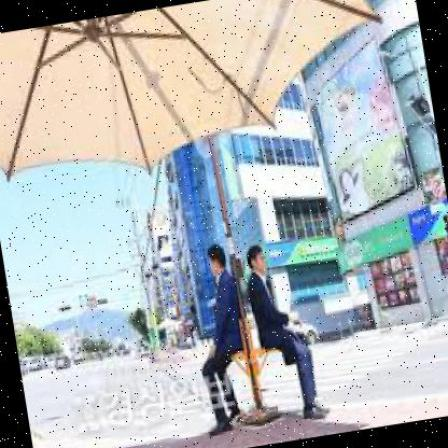silver: (241, 236, 331, 425), (179, 240, 258, 437)
